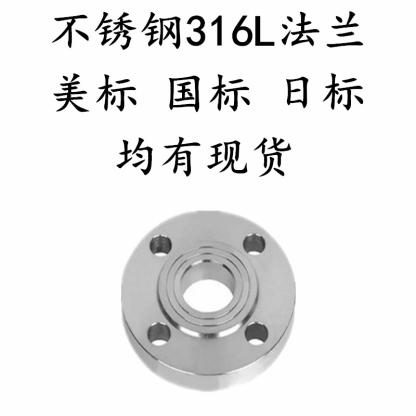FOD: (117, 202, 303, 392)
